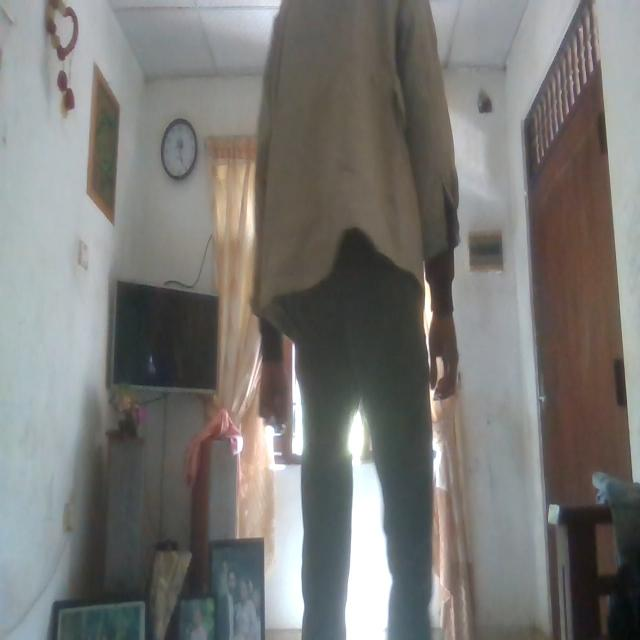Jacket_Wearer: (254, 0, 457, 340)
Person: (248, 0, 478, 640)
